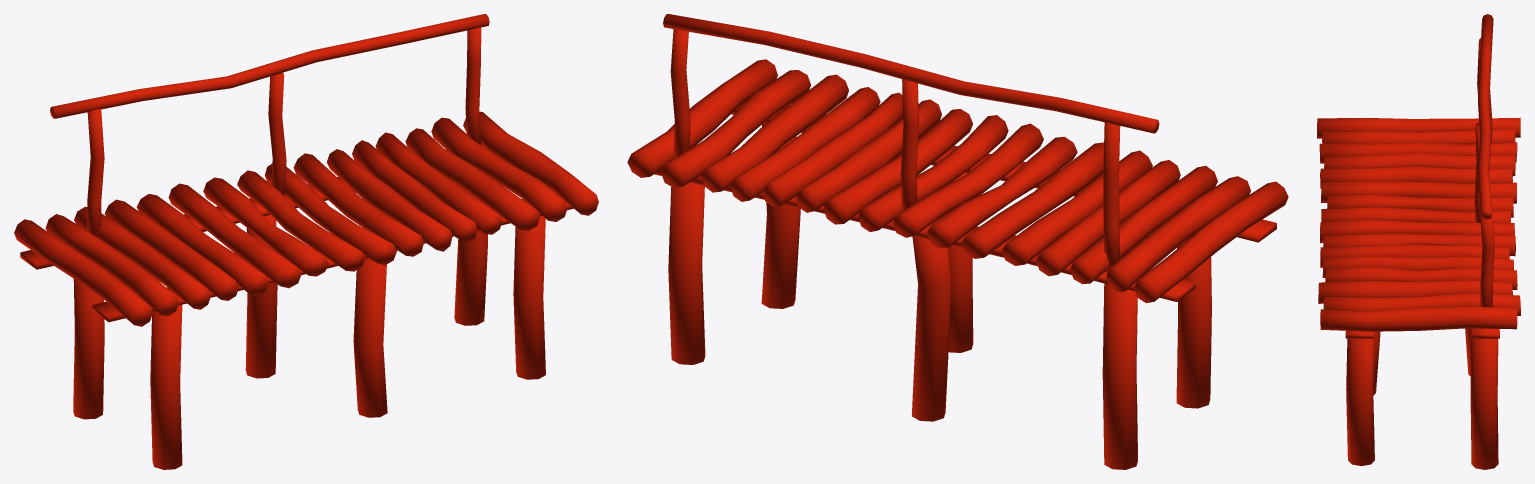
Rendered from bridge.fbx.
3 views of the same model, side by side, from view 1: azimuth 30°, elevation 25°; view 2: azimuth 150°, elevation 25°; view 3: azimuth 270°, elevation 25° (orthographic). The views are drawn at different scales.
Visible parts, largest first — view 1: Bridge; view 2: Bridge; view 3: Bridge.
Boxes of the visible parts, left/top/right/bottom form: Bridge: left=14, top=14, right=598, bottom=469; Bridge: left=627, top=14, right=1288, bottom=469; Bridge: left=1317, top=14, right=1520, bottom=469.
Bounding box in the file's own units: 6.79 × 4.22 × 2.86.
